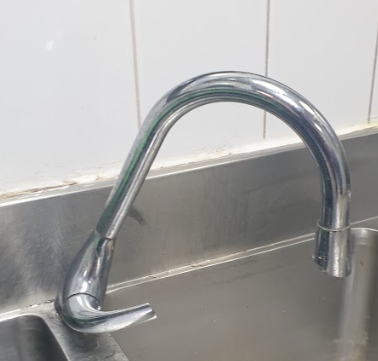Deck Faucet: (51, 65, 364, 346)
